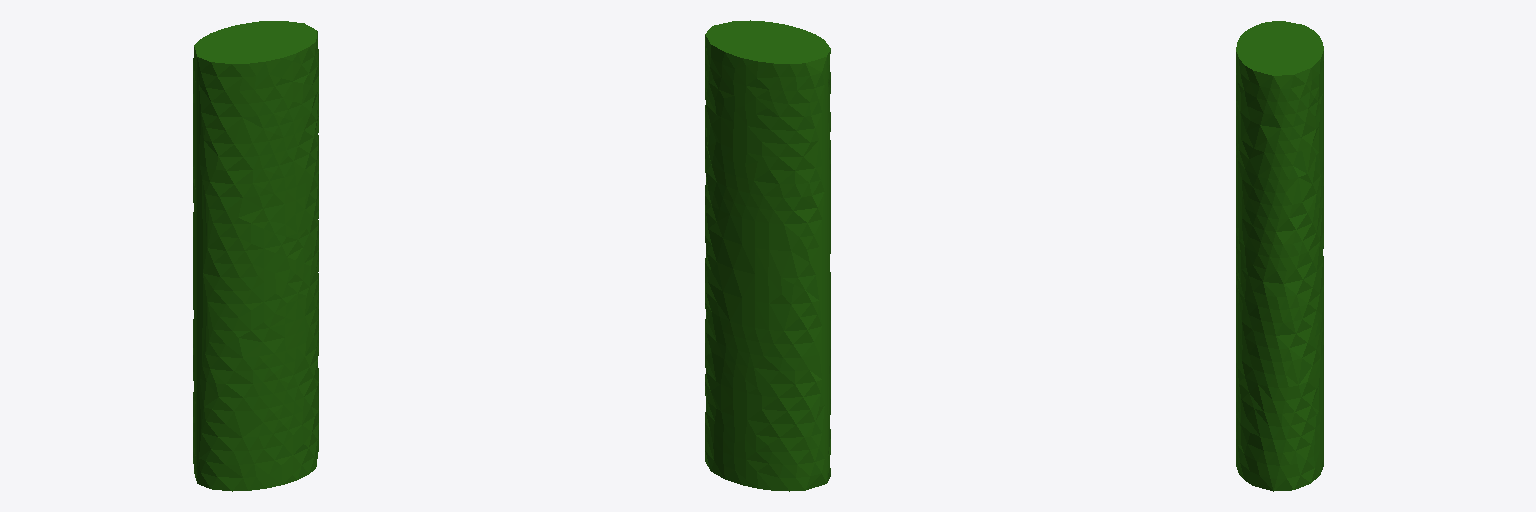
URDF robot description (Medium_Long_Oval_Green):
<?xml version="1.0"?>
<robot name="Medium_Long_Oval_Green">
    <link name="Medium_Long_Oval_Green">
        <visual>
            <geometry>
                <mesh filename="../mesh/factory_insertion/Medium_Long_Oval_Green.obj" scale="0.001 0.001 0.001"/>
            </geometry>
            <material name="Green">
              <color rgba="0.21 0.46 0.11 0.0"/>
            </material>
        </visual>
        <collision>
            <geometry>
                <mesh filename="../mesh/factory_insertion/Medium_Long_Oval_Green.obj" scale="0.001 0.001 0.001"/>
            </geometry>
            <sdf resolution="512"/>
        </collision>
    </link>
</robot>

--- Facts derived from the render (not from the file) ---
The picture shows the robot from 3 angles, left to right: view 1: azimuth 30°, elevation 25°; view 2: azimuth 150°, elevation 25°; view 3: azimuth 270°, elevation 25°; orthographic projection.
Robot: Medium_Long_Oval_Green — 1 links, 0 joints (none); root link Medium_Long_Oval_Green; default pose: all joints at 0.
Links seen in each view (by area): view 1: Medium_Long_Oval_Green; view 2: Medium_Long_Oval_Green; view 3: Medium_Long_Oval_Green.
Boxes of the visible links, x1=… form: Medium_Long_Oval_Green: x1=193, y1=21, x2=318, y2=491; Medium_Long_Oval_Green: x1=705, y1=20, x2=830, y2=491; Medium_Long_Oval_Green: x1=1236, y1=21, x2=1323, y2=491.
Bounding box of the posed robot: 0.0432 × 0.0288 × 0.15 m (x, y, z).
1 mesh visuals loaded from 1 distinct referenced files (1 OBJ).
